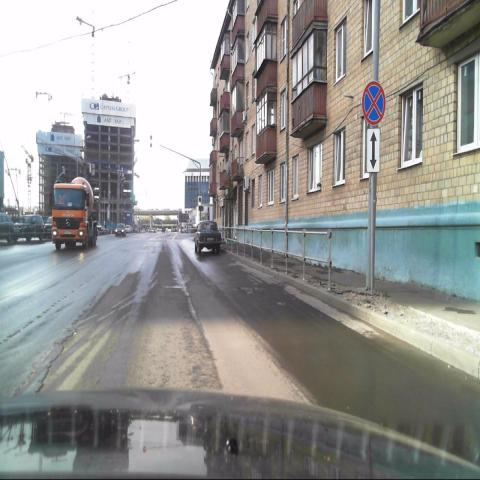8_2_4: (367, 128, 381, 177)
